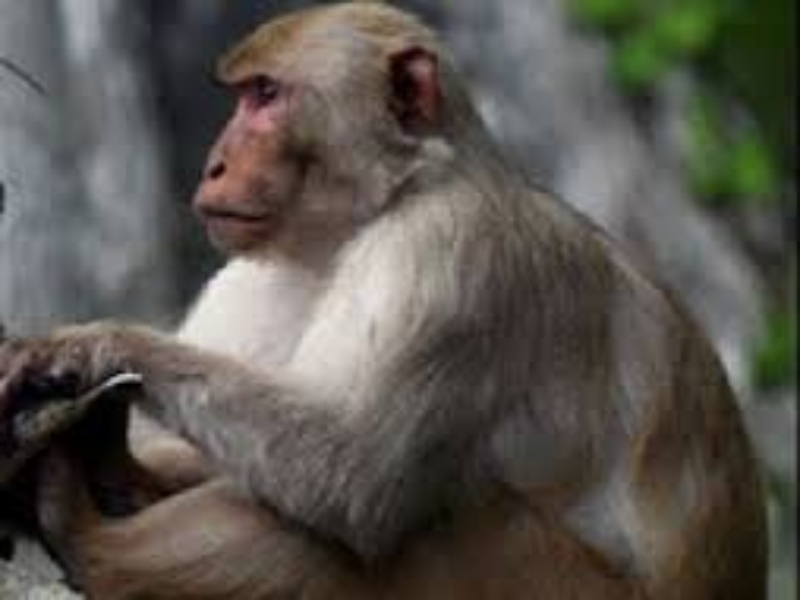monkey: (105, 12, 797, 600)
